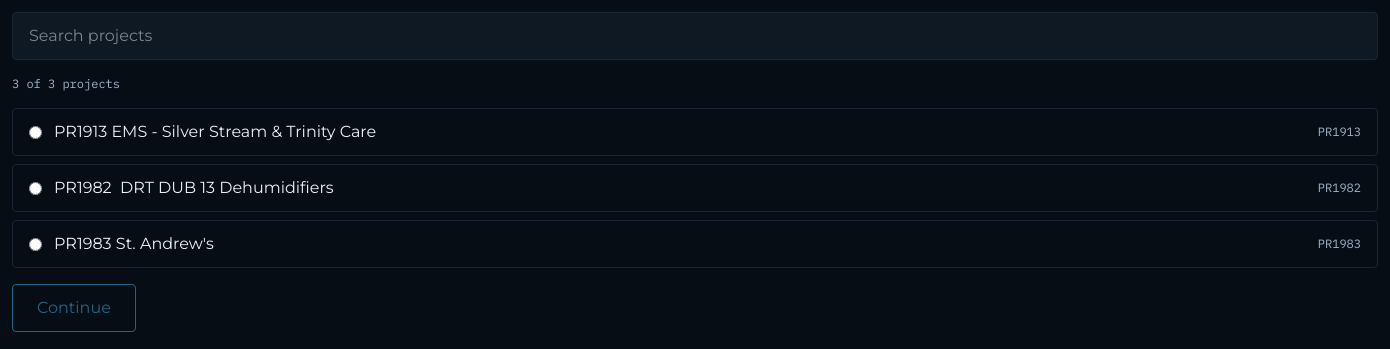
Test: ProjectPicker search, stale and empty states › disables Continue when the selected row is filtered out
Click the radio button labelled "PR1913 EMS - Silver Stream & Trinity Care PR1913". click: (36, 132)
box: [29,126,42,138]
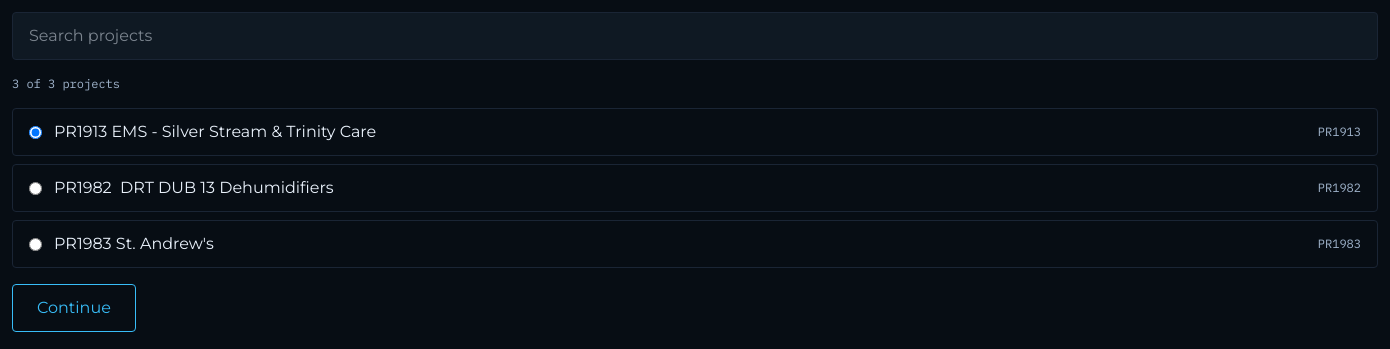
Result: the button "Continue" is enabled at [12,284,136,332]
Type "dehumidifiers" into the search field labelled "Search projects". click: (695, 36)
box: [12,12,1378,60]
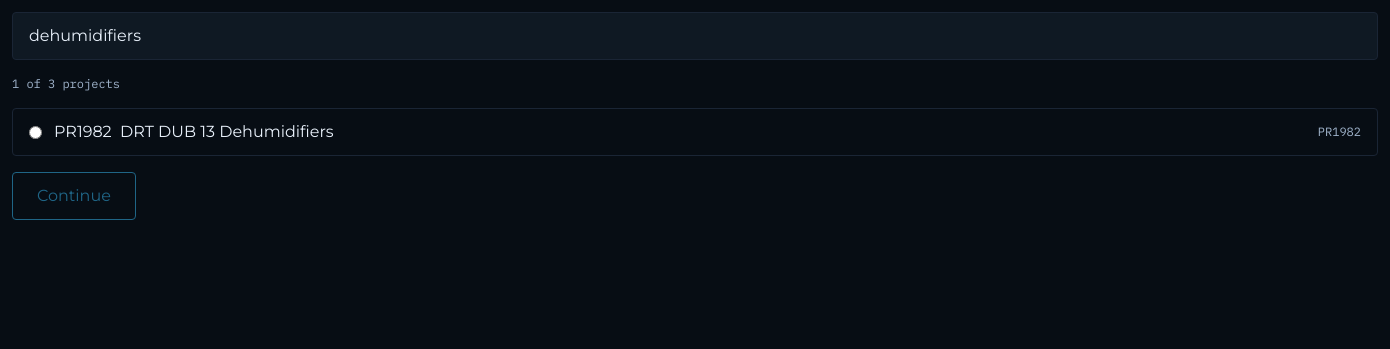
Result: the button "Continue" is disabled at [12,172,136,220]
